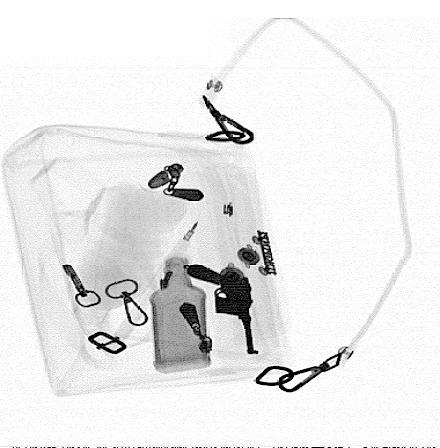Gun: (187, 262, 257, 356)
